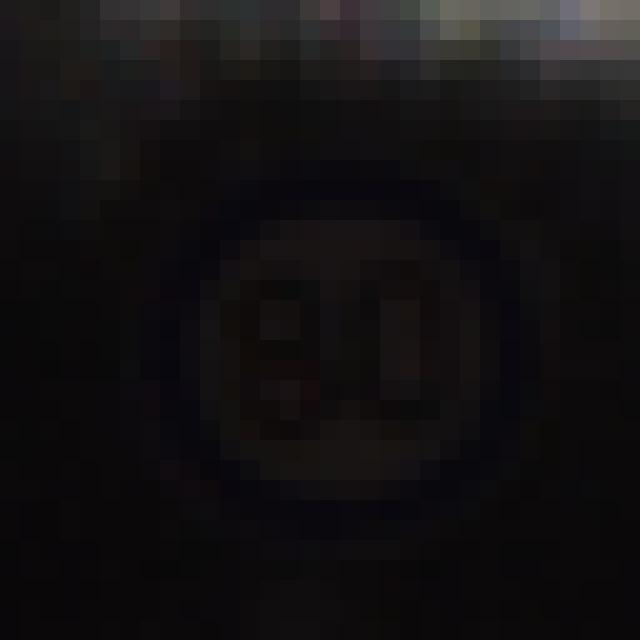SPEED-LIMIT-80: (136, 165, 524, 544)
